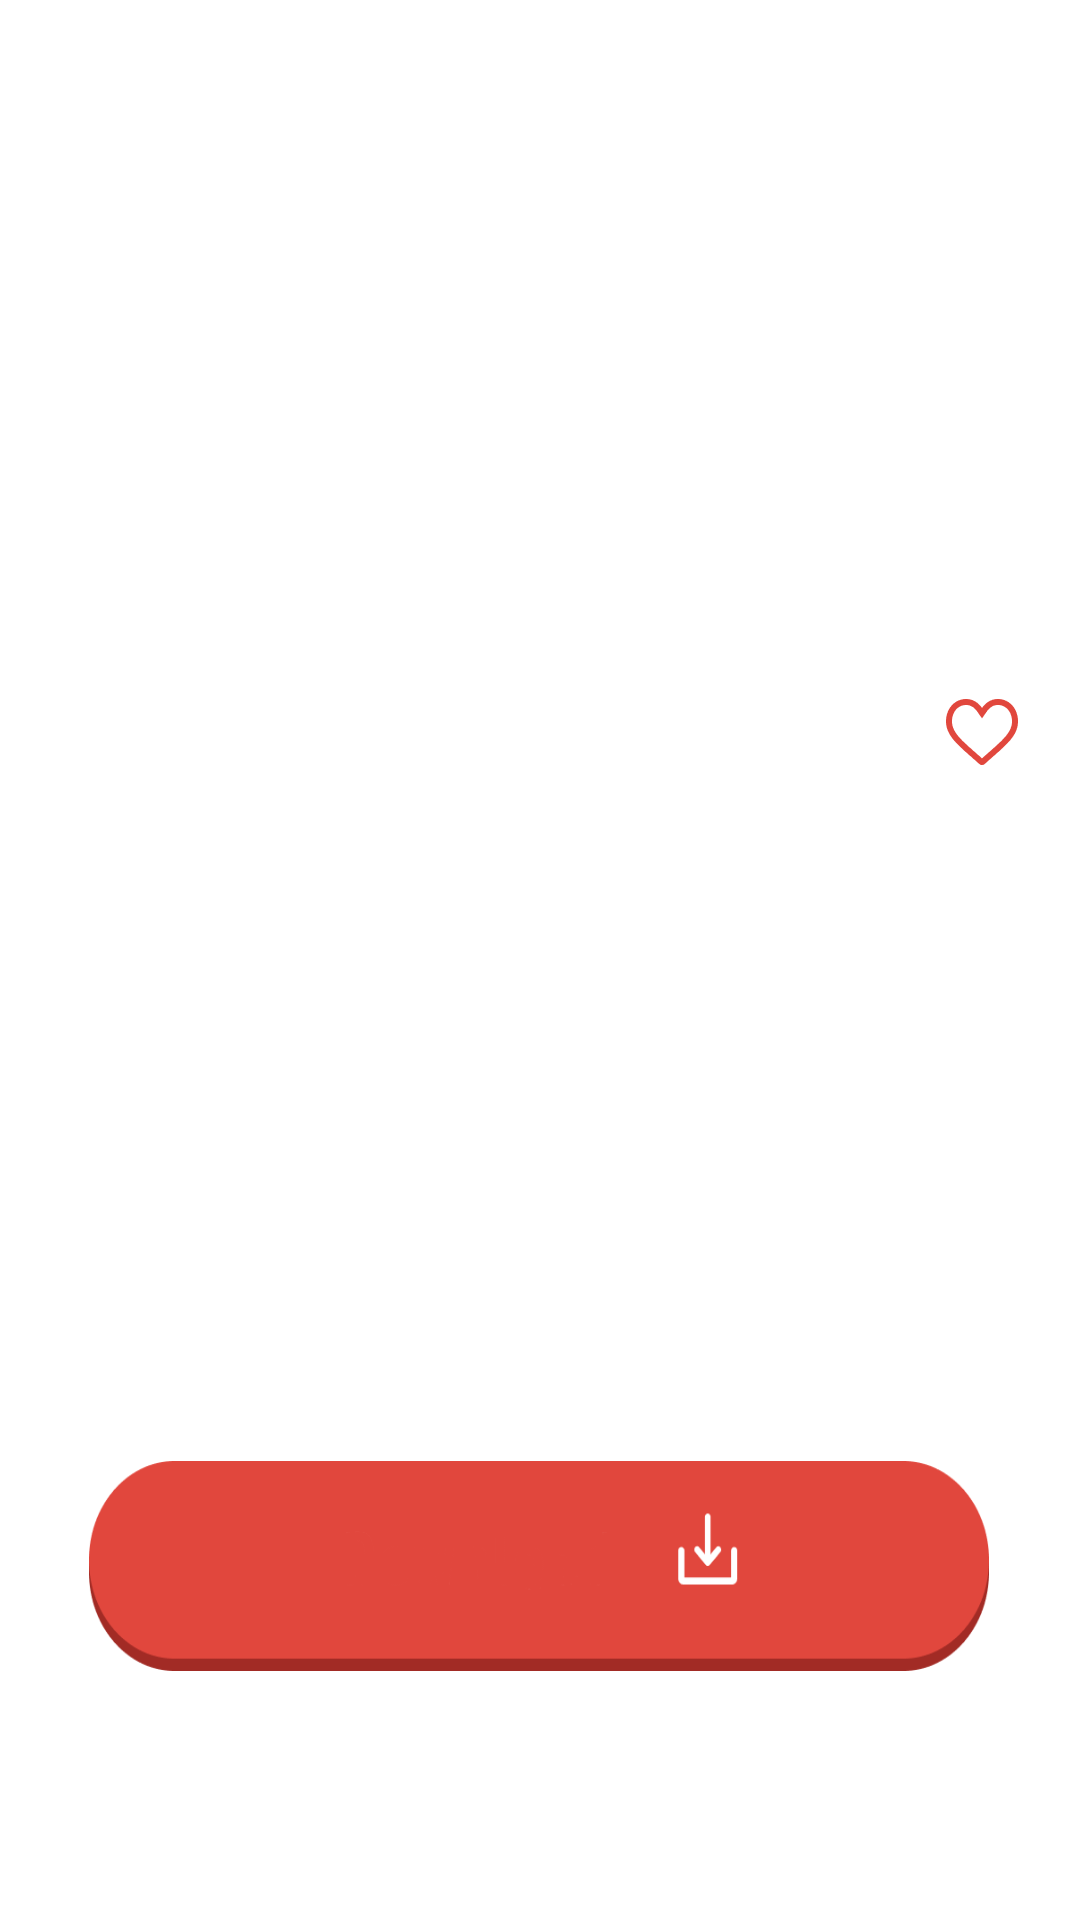

Named icons in this screenshot (1080×1920) and their bounding boxes, (x1, y1, x2, y2):
favorite false: (946, 699, 1018, 765)
